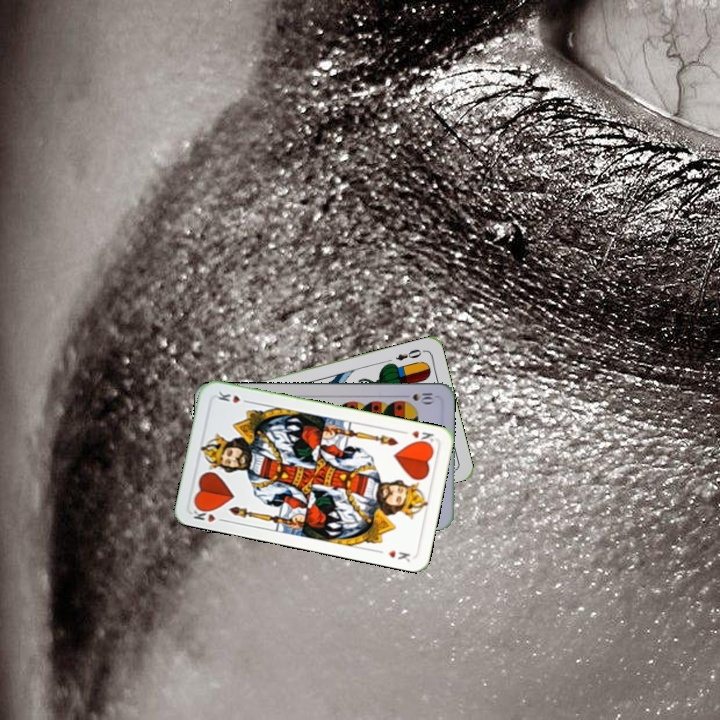EO: (392, 345, 424, 363)
HK: (189, 502, 229, 525), (398, 426, 436, 447)
S10: (398, 388, 438, 405)
